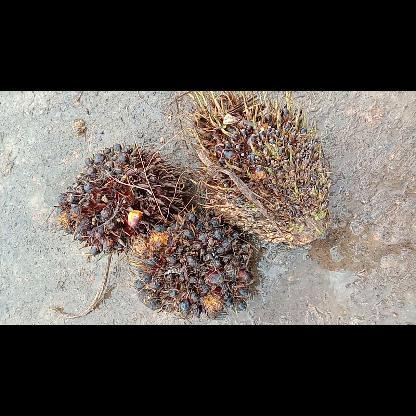TBS abnormal: (181, 90, 331, 246), (57, 144, 190, 254), (134, 211, 256, 316)
